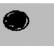correct: (2, 10, 32, 32)
